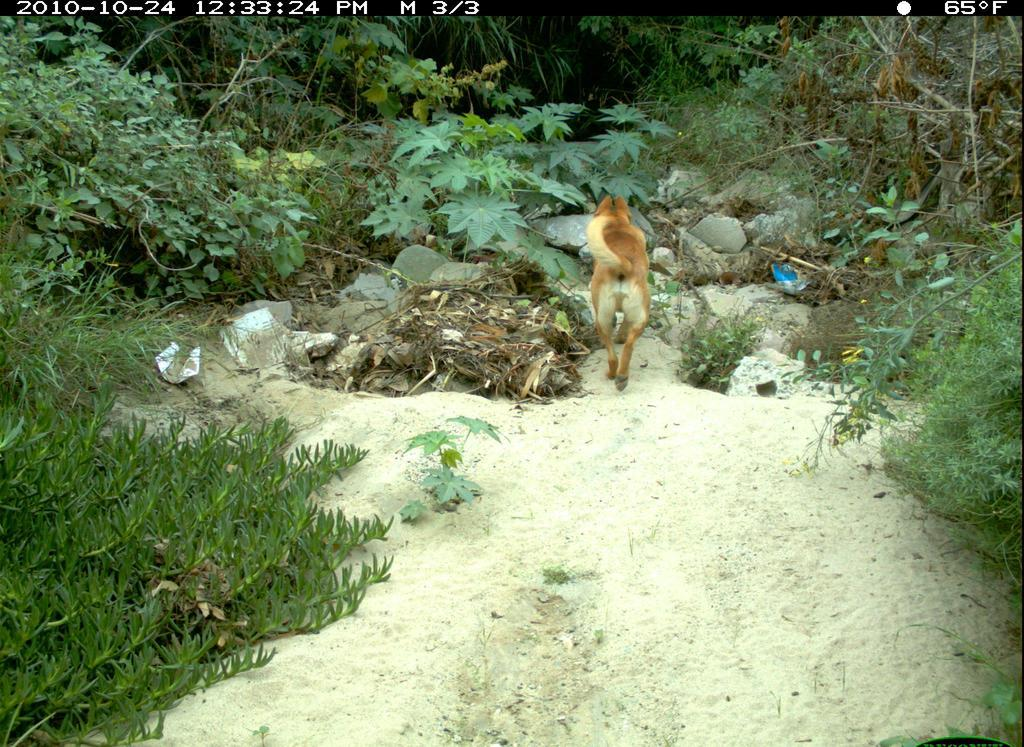dog: (574, 187, 657, 397)
